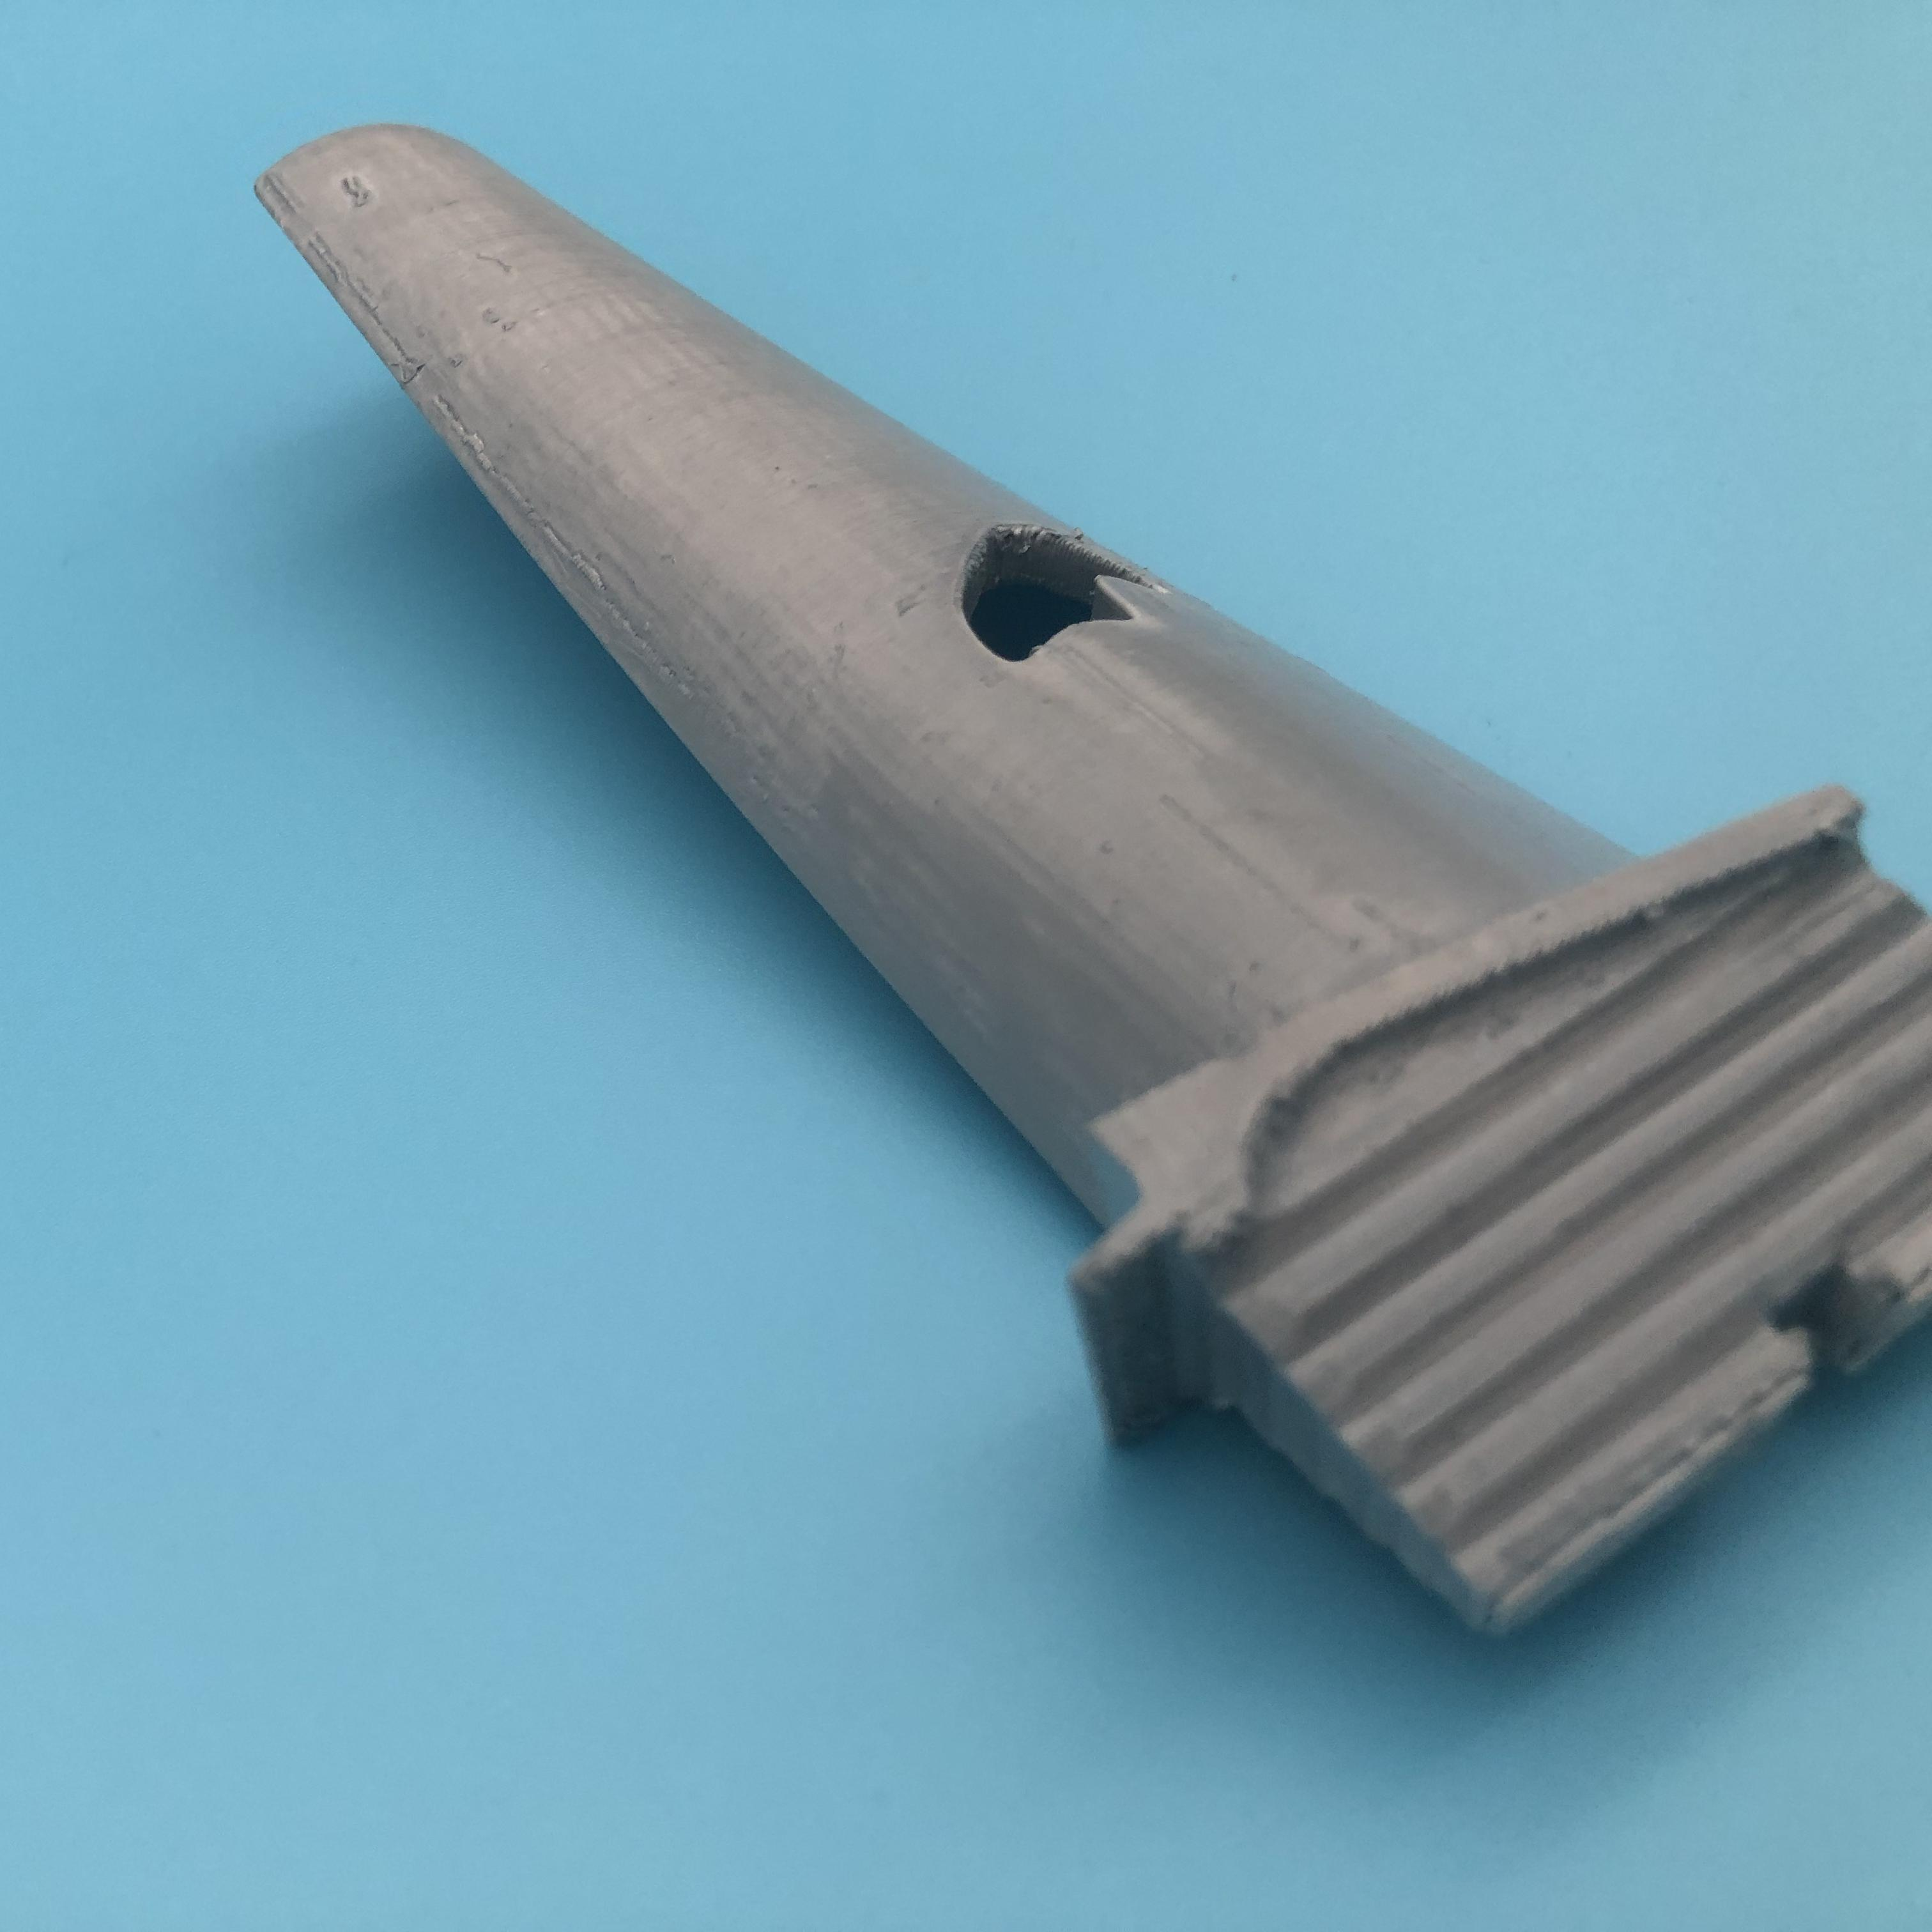breakdown: (952, 513, 1187, 679)
